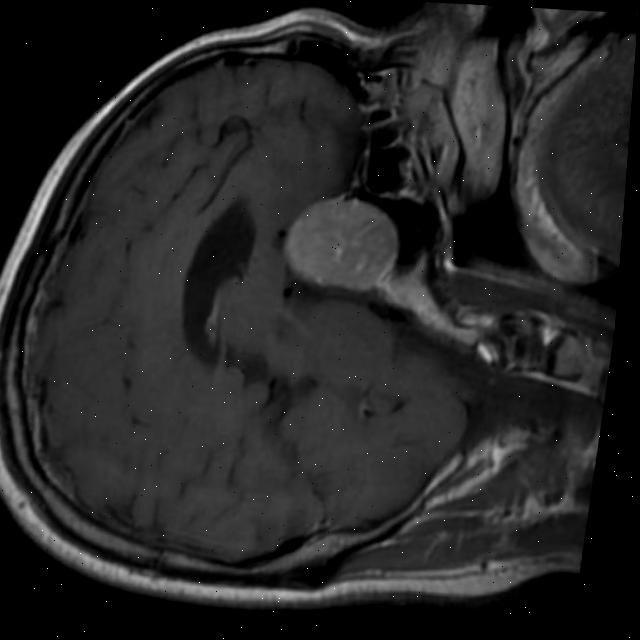Pituitary: (278, 191, 408, 294)
